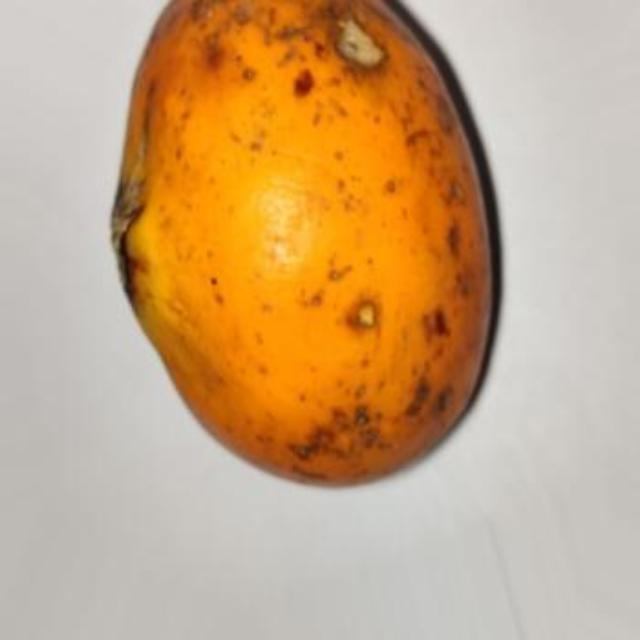good: (110, 0, 499, 488)
